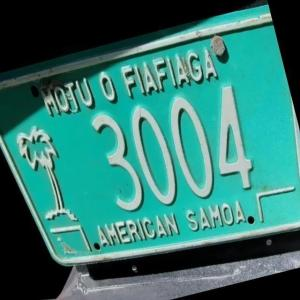Plate: (0, 14, 300, 299)
